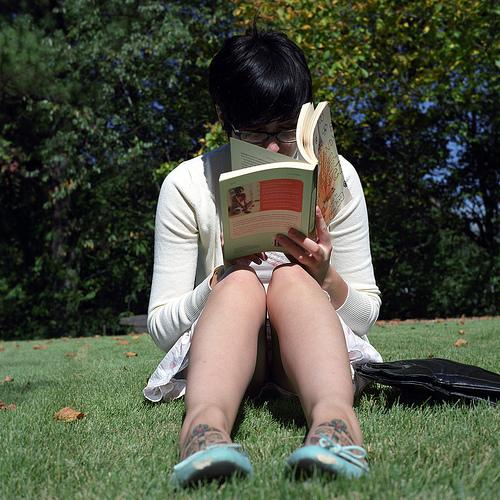person: (149, 29, 381, 484)
